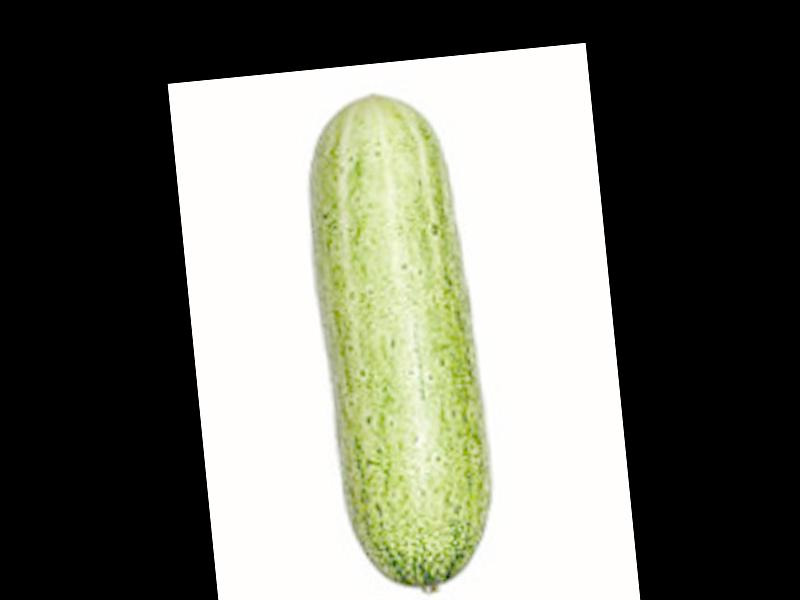Cucumber: (300, 86, 501, 600)
